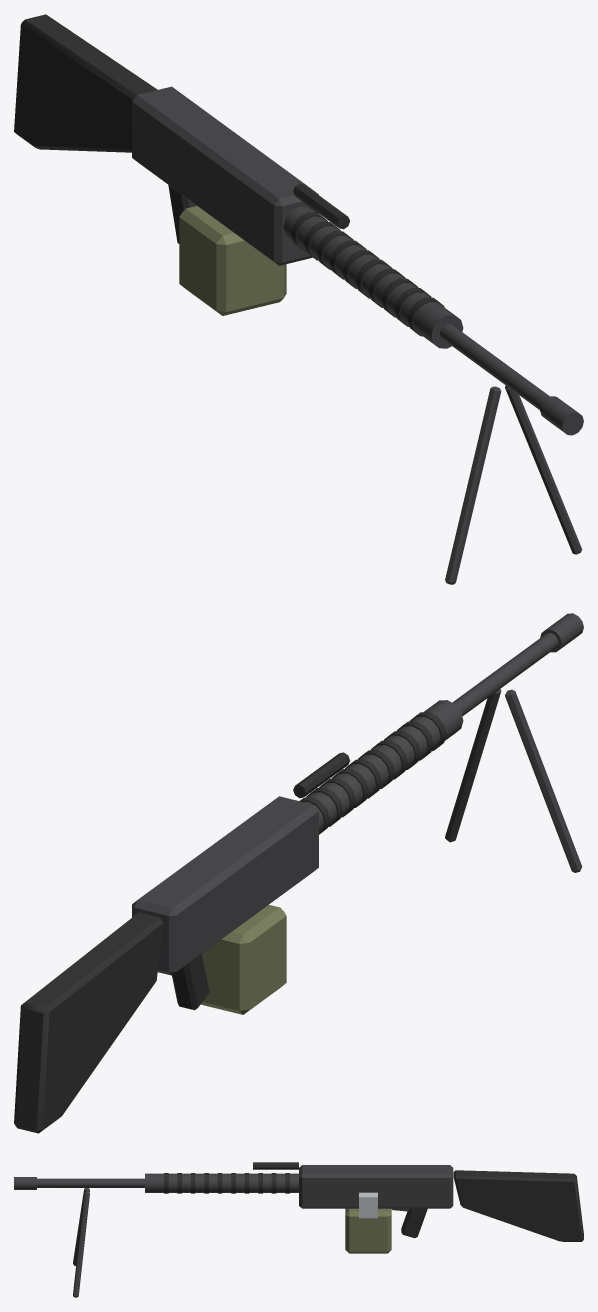
Rendered from lmg.glb.
3 renders of one model, top to bottom at view 1: azimuth 30°, elevation 25°; view 2: azimuth 150°, elevation 25°; view 3: azimuth 270°, elevation 25°, orthographic. The views are drawn at different scales.
Parts seen in each view (by area): view 1: lmg_mesh; view 2: lmg_mesh; view 3: lmg_mesh.
Part boxes in pixels (left/top/right/bottom): lmg_mesh: left=14, top=14, right=583, bottom=584; lmg_mesh: left=14, top=613, right=583, bottom=1133; lmg_mesh: left=14, top=1162, right=583, bottom=1297.
Size of the model in its own units: 0.2124 by 0.3412 by 1.48.
